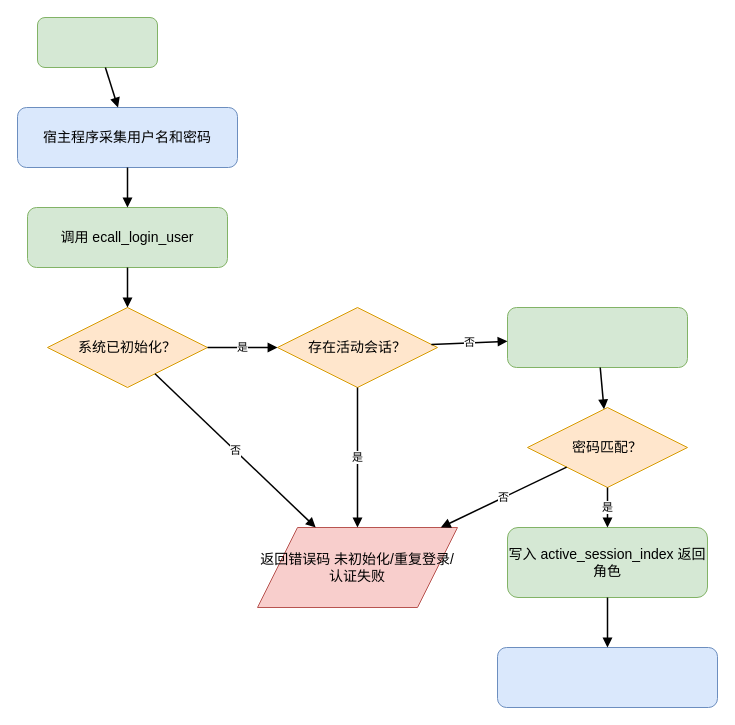
Some shapes in this 735 by 725 pixel diagram are drawn without their labels. Each missing label, with the centre of its shape:
"宿主程序切换到对应角色菜单" goes at point (607, 677).
"开始" goes at point (97, 42).
"查找用户 find_user_index" goes at point (597, 337).
